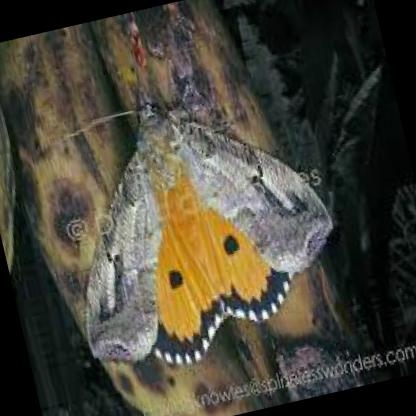fruit sucking moth: (85, 74, 333, 368)
